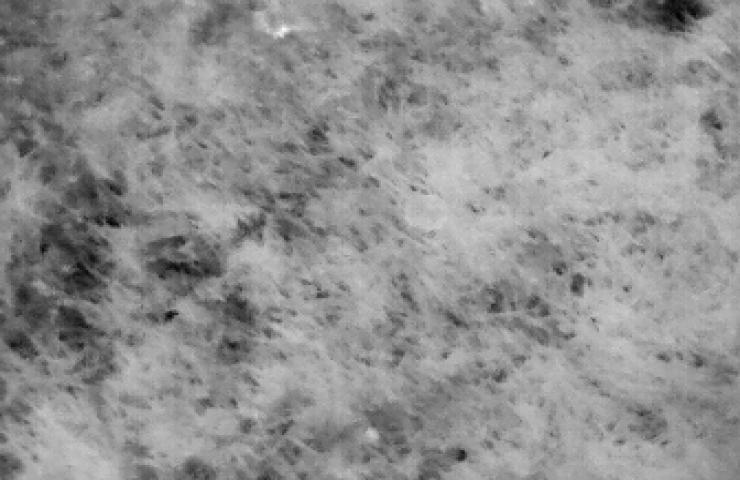landmines: (395, 185, 454, 233)
